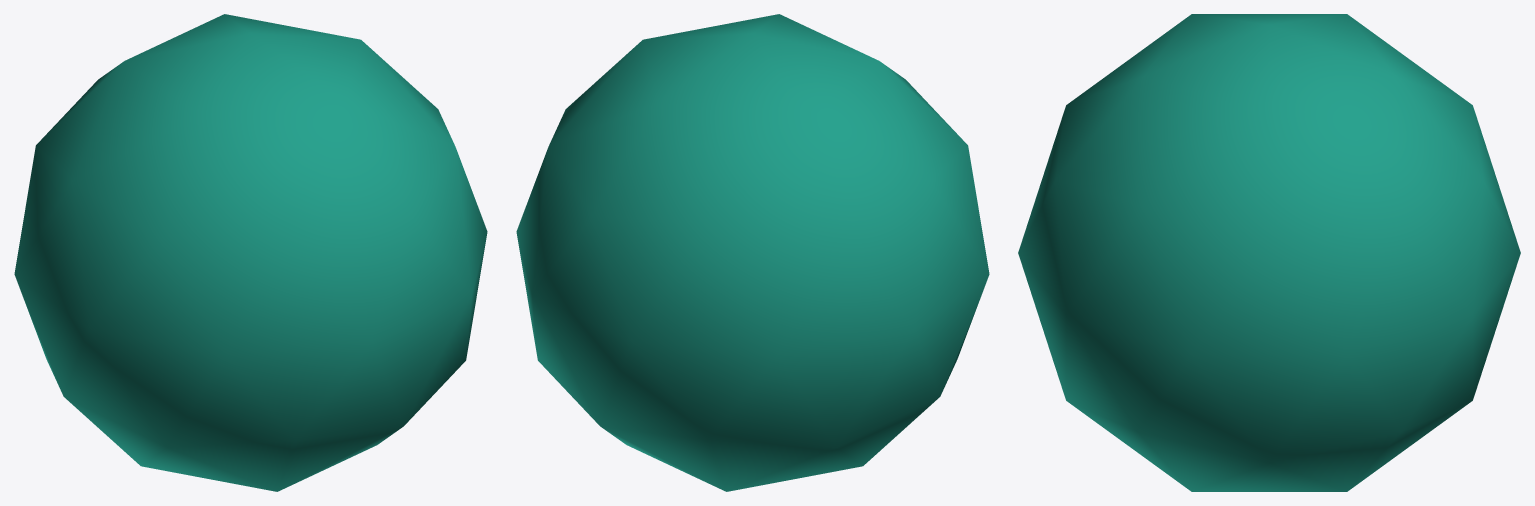
The model's file is boss_kraken_tentB.glb.
3 renders of one model, left to right at view 1: azimuth 30°, elevation 25°; view 2: azimuth 150°, elevation 25°; view 3: azimuth 270°, elevation 25°, orthographic. The views are drawn at different scales.
Parts seen in each view (by area): view 1: Icosphere; view 2: Icosphere; view 3: Icosphere.
Boxes of the visible parts, box(x1,y1,x2,y2) form: Icosphere: box(14, 14, 487, 491); Icosphere: box(516, 14, 989, 491); Icosphere: box(1018, 14, 1520, 491).
Bounding box in the file's own units: 0.5706 × 0.6 × 0.6.
